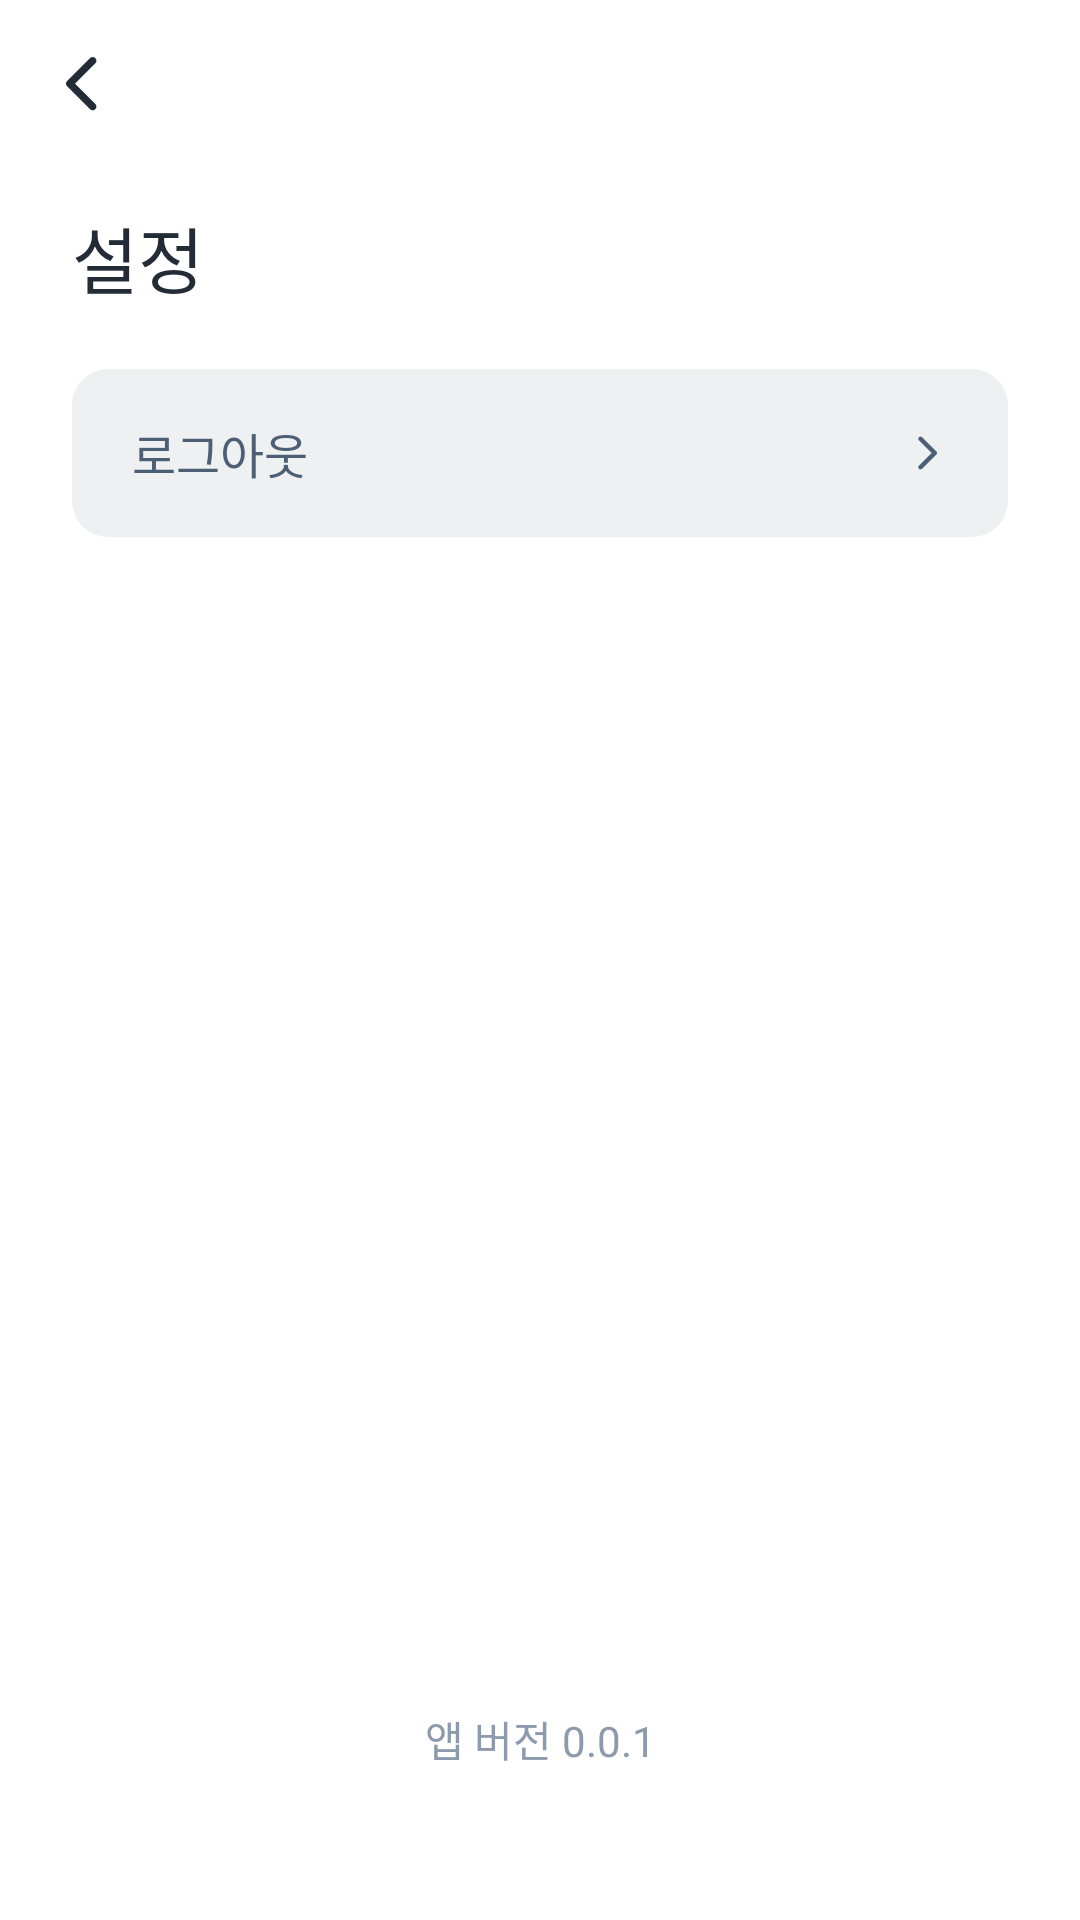

Locate icon controls on the screen. Image size 1080*1920, boxes as (x1, y1, x2, y2).
arrow mini: (918, 436, 937, 470)
